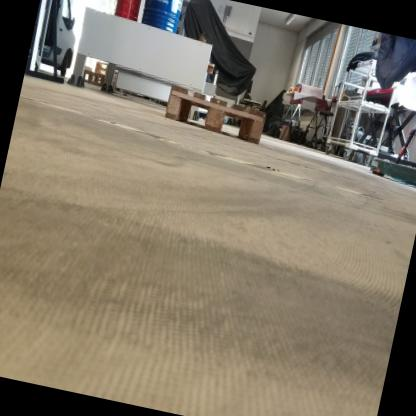BoxFace: (162, 77, 268, 149)
